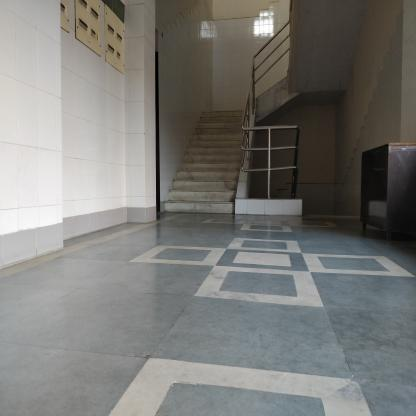stairs: (183, 148, 236, 218)
